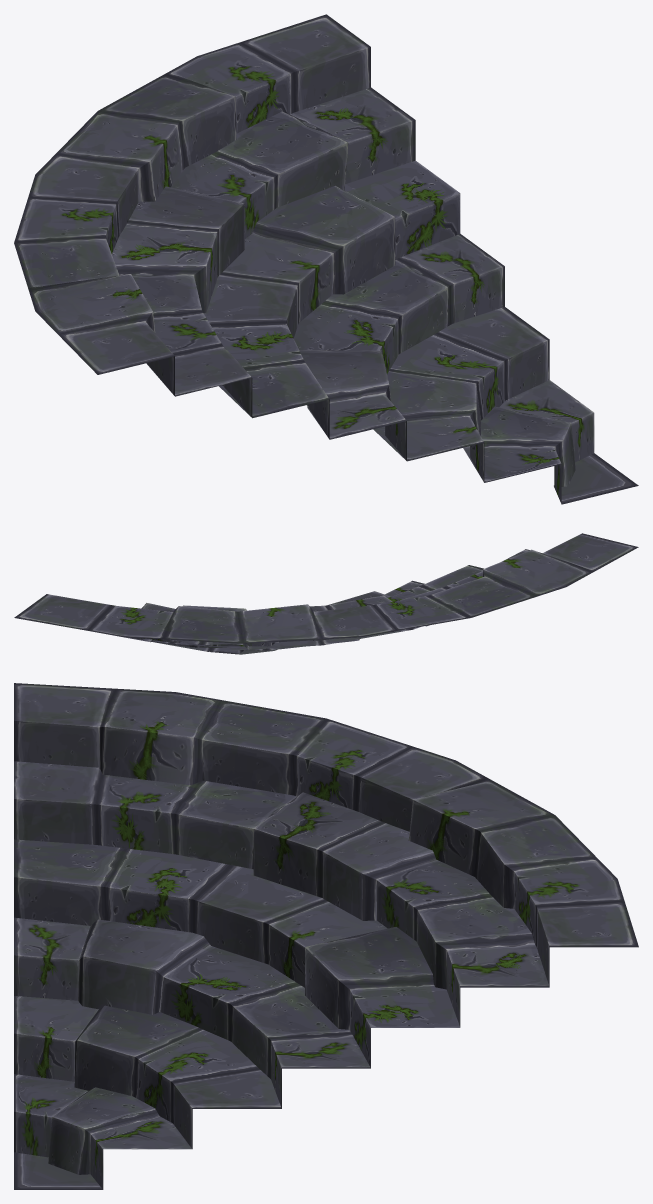
File: MOD_Stairs_01_E_concave_3.fbx
3 views of the same model, one above another, from view 1: azimuth 30°, elevation 25°; view 2: azimuth 150°, elevation 25°; view 3: azimuth 270°, elevation 25° (orthographic). The views are drawn at different scales.
Visible parts, largest first — view 1: MOD_Stairs_01_E_concave_3; view 2: MOD_Stairs_01_E_concave_3; view 3: MOD_Stairs_01_E_concave_3.
Boxes of the visible parts, left/top/right/bottom form: MOD_Stairs_01_E_concave_3: left=14, top=14, right=638, bottom=504; MOD_Stairs_01_E_concave_3: left=14, top=533, right=638, bottom=654; MOD_Stairs_01_E_concave_3: left=14, top=683, right=638, bottom=1189.
Size of what is drawn, in the model's own units: 400 by 176 by 400.
